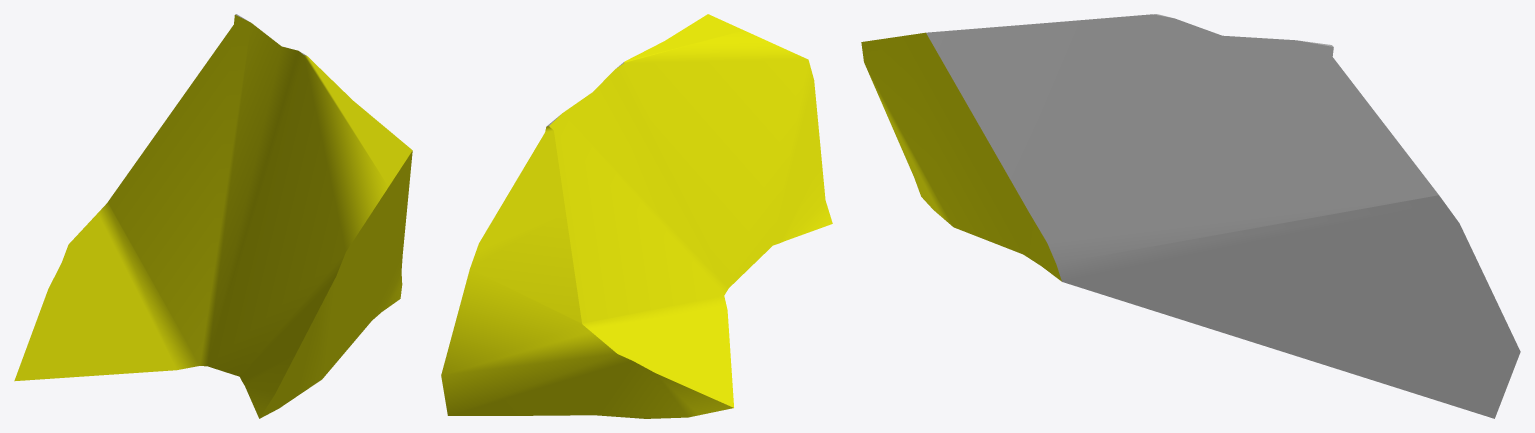
File: Bridge6.fbx
3 views of the same model, side by side, from view 1: azimuth 30°, elevation 25°; view 2: azimuth 150°, elevation 25°; view 3: azimuth 270°, elevation 25° (orthographic). The views are drawn at different scales.
Visible parts, largest first — view 1: shard9; view 2: shard9; view 3: shard9.
Part boxes in pixels (x1,y1,x2,y2): shard9: (14, 14, 412, 418); shard9: (441, 14, 832, 418); shard9: (861, 14, 1520, 418).
Bounding box in the file's own units: 45.1 × 53.51 × 86.07.
